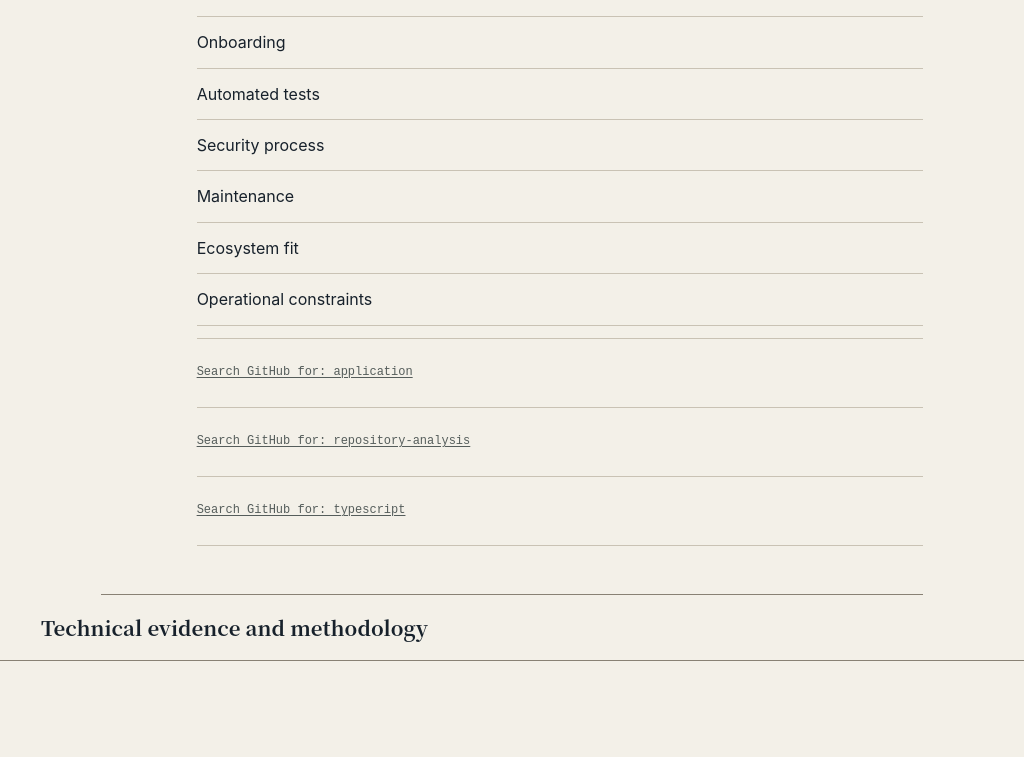
it: ReportView › leads with the reader decision and keeps each technical section in one closed appendix
This screenshot has width=1024, height=757.
(page scrolled)
Expected: the text "Technical evidence and methodology" is shown, x1=0 y1=594 x2=1023 y2=661
Expected: the button "Refresh public data" is not shown
What coordinates should you click on to do the following:
click the heading "Technical evidence and methodology"
I would click on:
 (234, 626)
Its box is x1=41 y1=612 x2=428 y2=642.
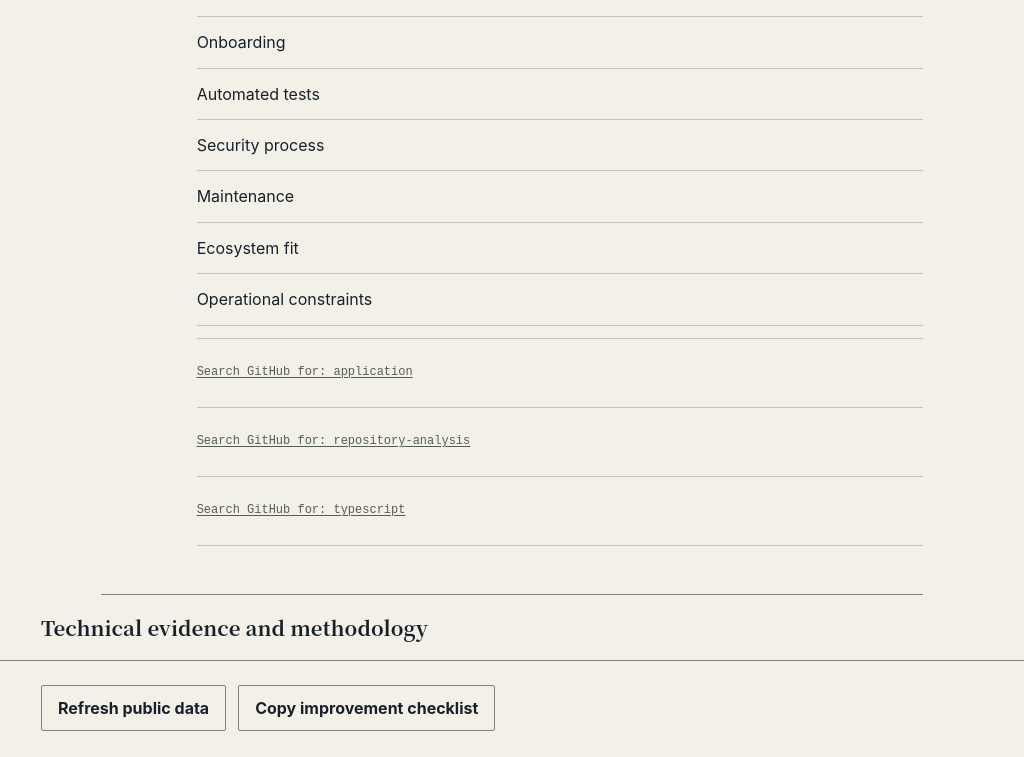
Expected: the button "Refresh public data" is shown, x1=41 y1=685 x2=226 y2=731
Expected: the button "Copy improvement checklist" is shown, x1=238 y1=685 x2=495 y2=731
